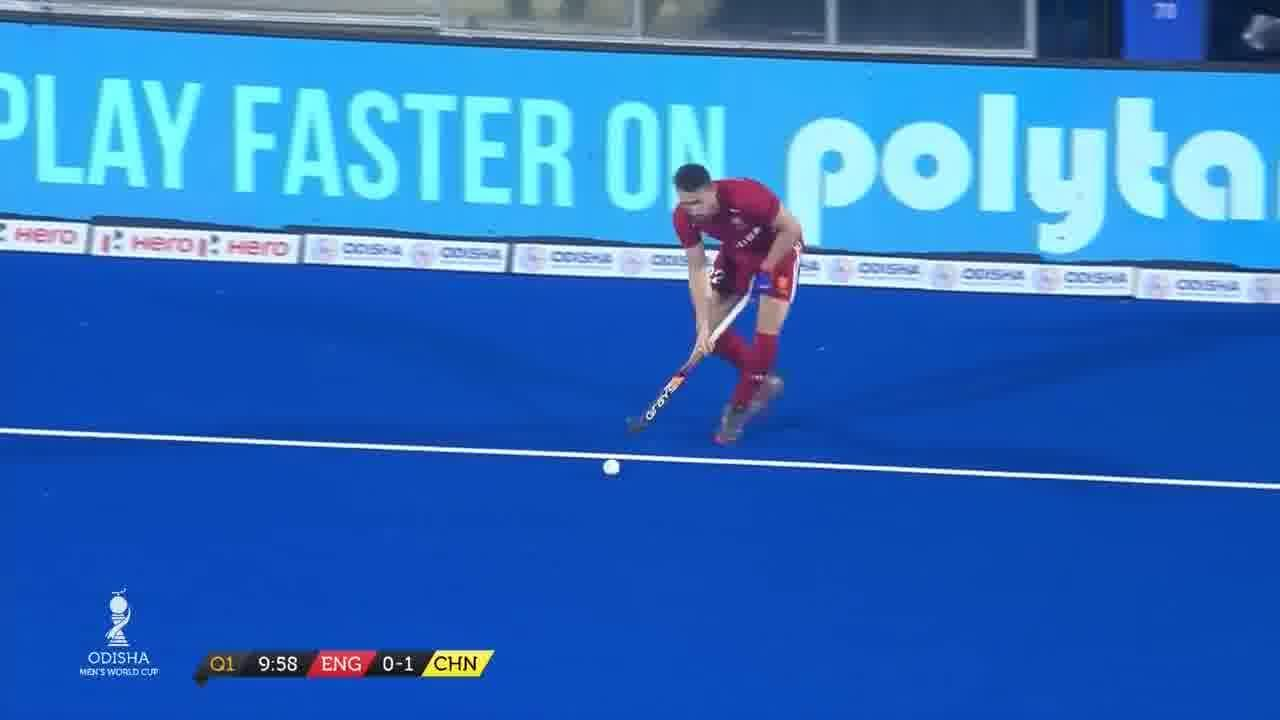ball: (598, 450, 630, 487)
